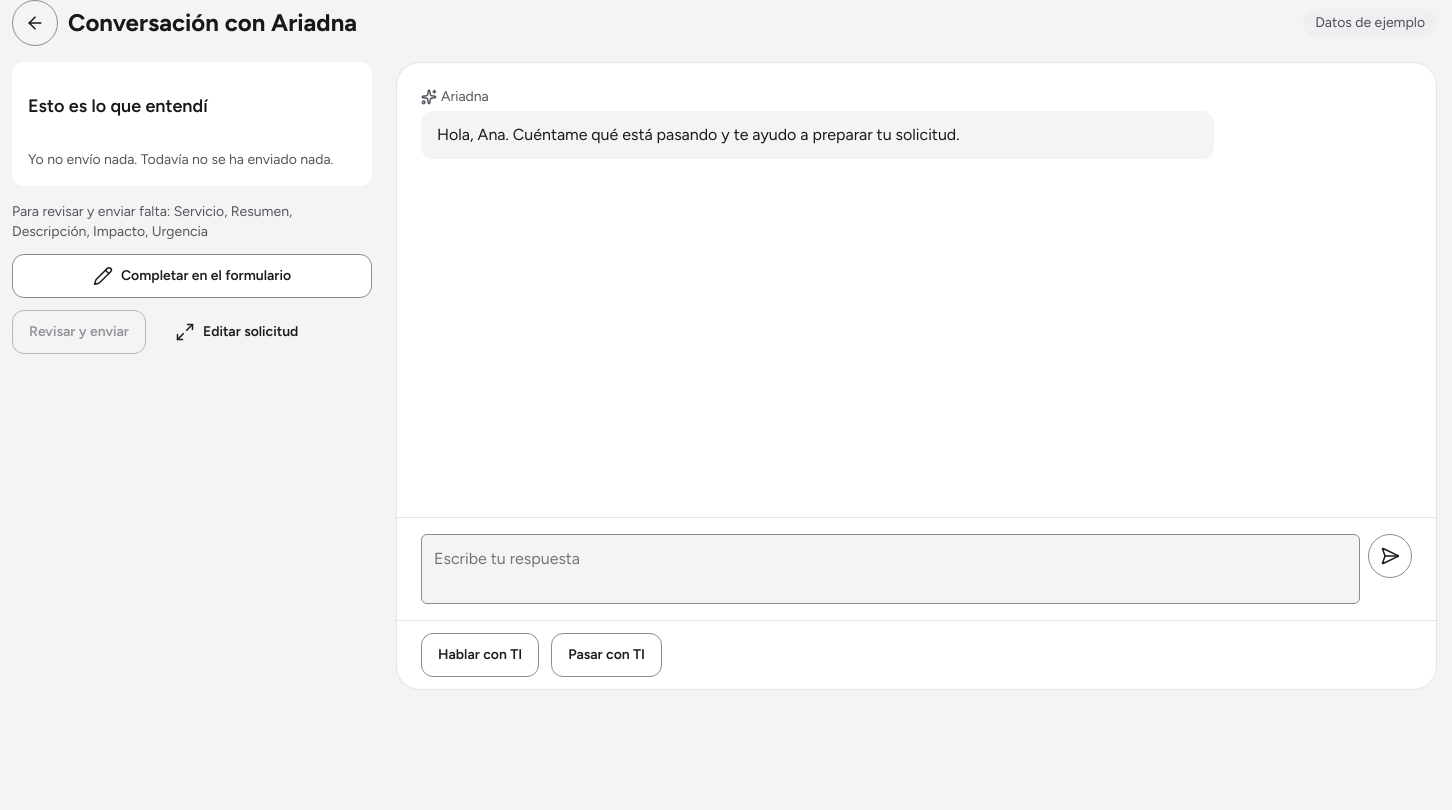
ConversationContainer agent v2 › create_ticket proposal stays disabled while the draft has blocking items
In the text box named "Tu respuesta para Ariadna": x=890, y=569 left=421, top=534, right=1360, bottom=604, type "La impresora no imprime"
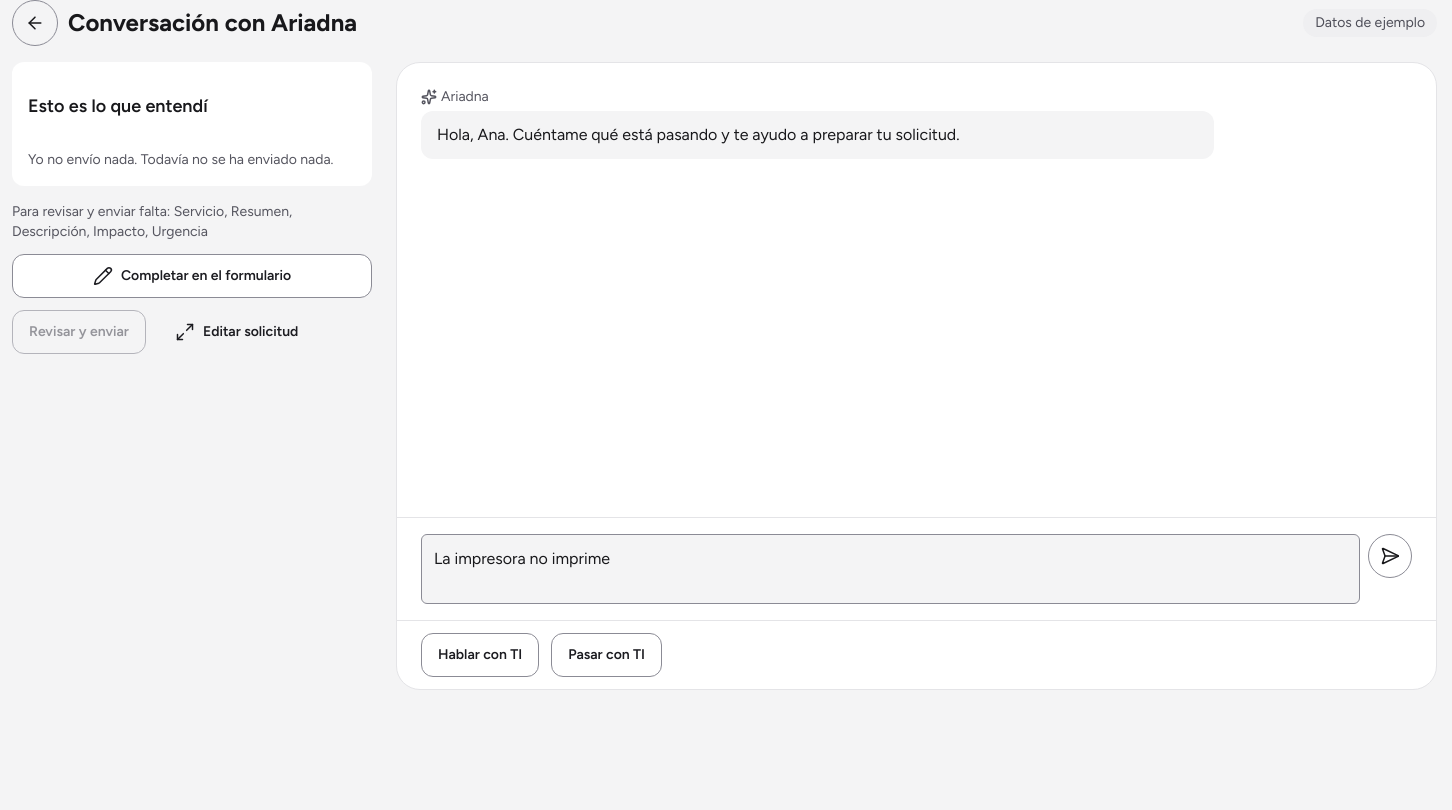
Click the button named "Enviar respuesta a Ariadna": x=1390, y=556 left=1368, top=534, right=1412, bottom=578
(page scrolled)
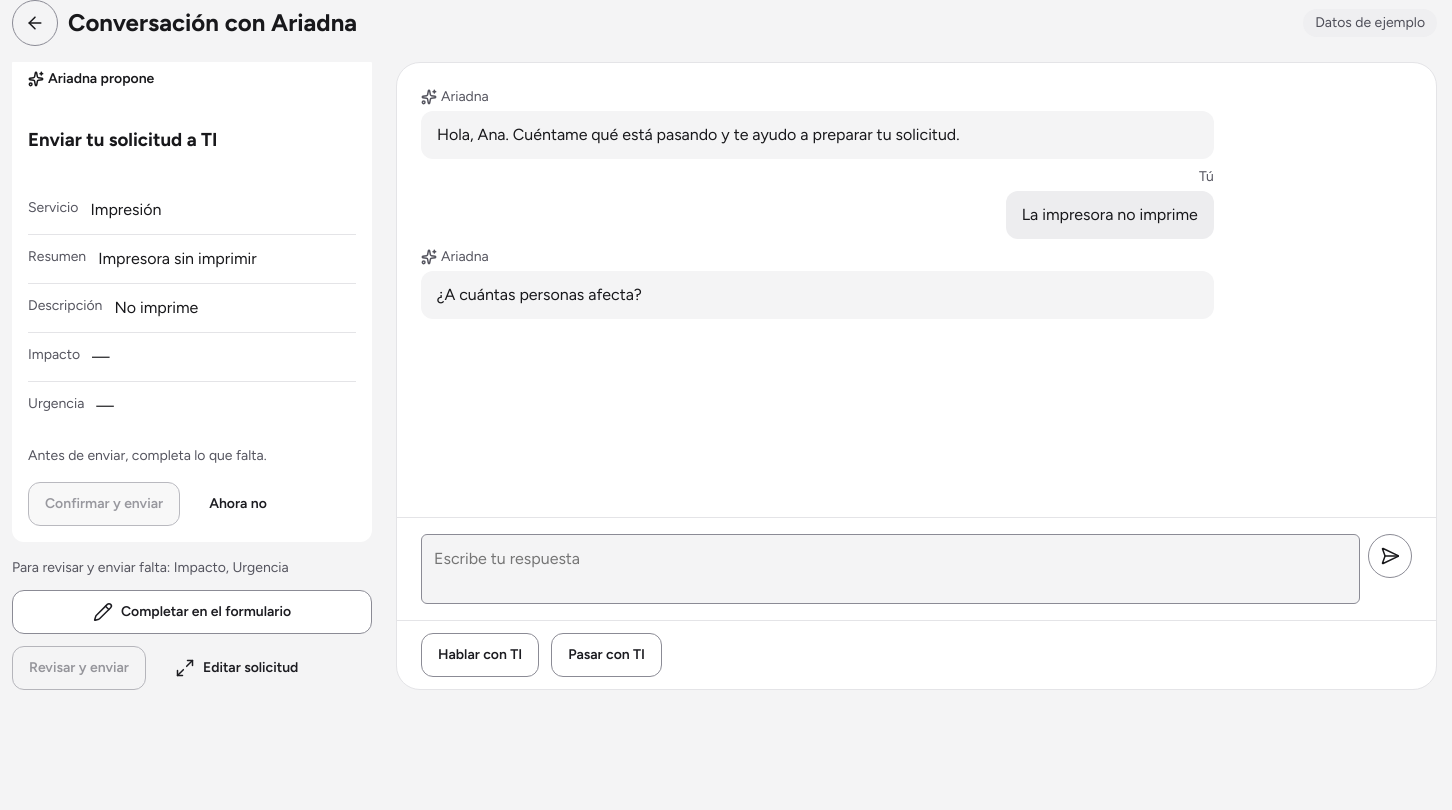
Expected: the button "Confirmar y enviar" is disabled, left=28, top=482, right=180, bottom=526
